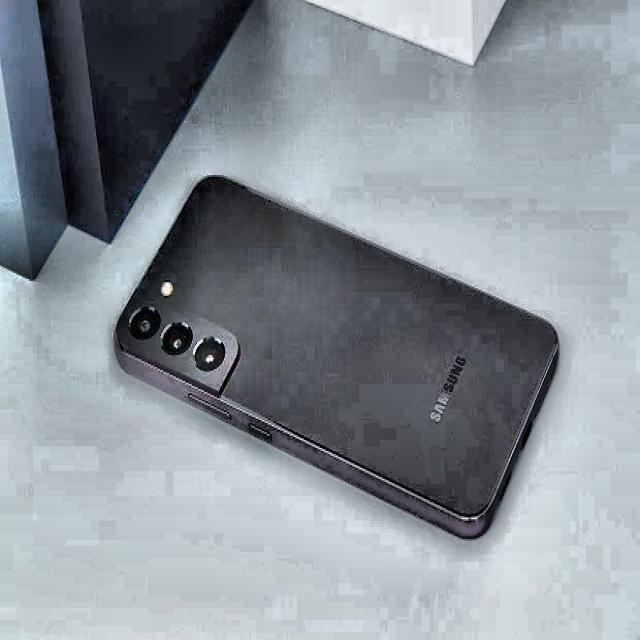Phone: (111, 172, 564, 544)
